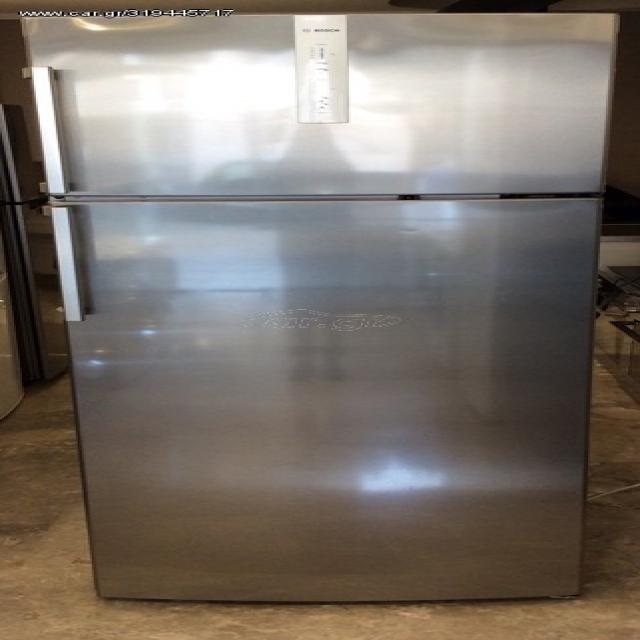refrigerator: (18, 12, 617, 602)
